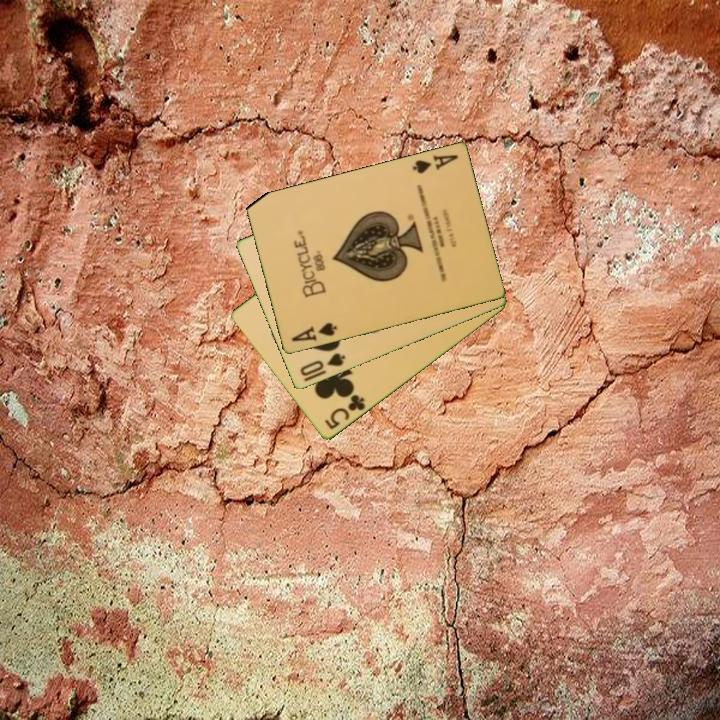10s: (296, 350, 348, 380)
5c: (321, 391, 368, 433)
As: (288, 319, 340, 345), (409, 151, 461, 177)
